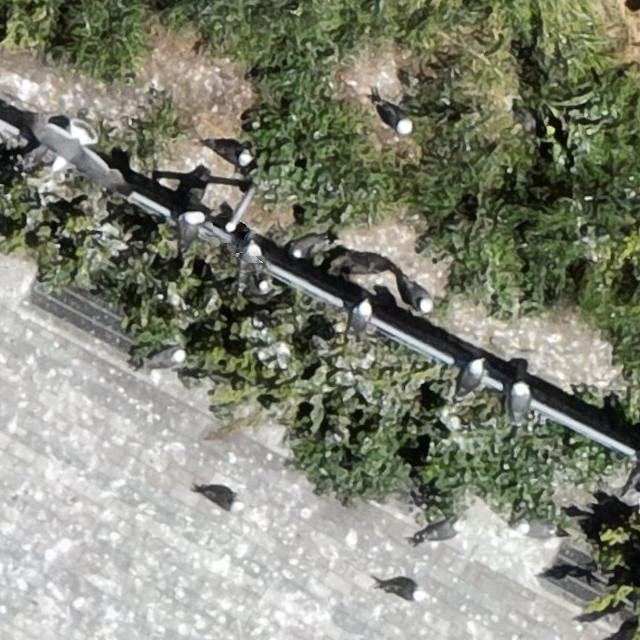F: (30, 119, 114, 191)
umineko: (289, 232, 333, 259), (519, 516, 562, 543), (459, 362, 484, 396), (211, 144, 249, 166), (384, 106, 413, 134), (405, 282, 432, 312), (203, 489, 241, 510), (424, 520, 462, 540), (510, 384, 528, 423), (148, 347, 183, 367), (348, 301, 369, 334), (386, 581, 422, 600), (242, 240, 268, 264), (180, 213, 202, 237)
